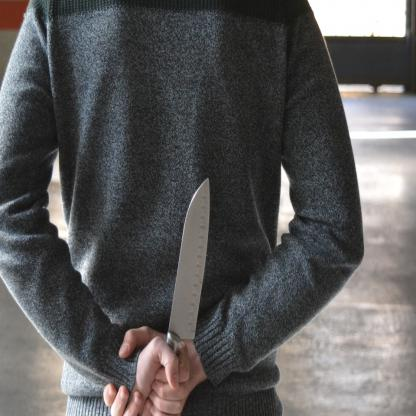knife: (149, 167, 215, 415)
